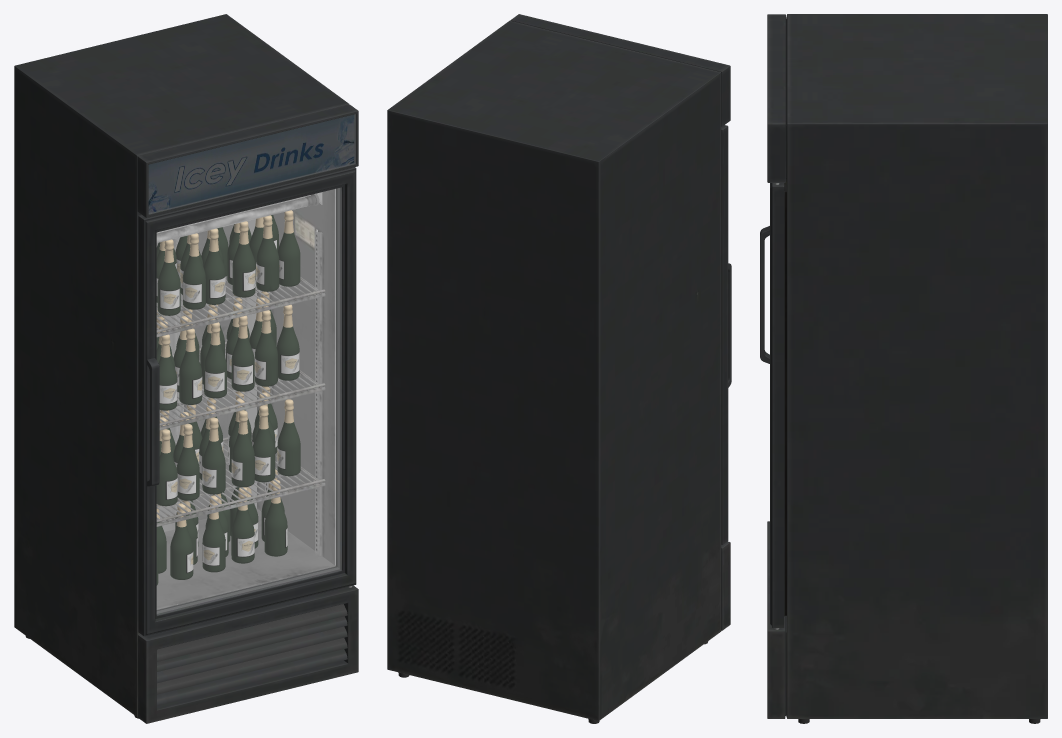
The model's file is CommercialRefrigerator.glb.
3 views of the same model, side by side, from view 1: azimuth 30°, elevation 25°; view 2: azimuth 150°, elevation 25°; view 3: azimuth 270°, elevation 25° (orthographic). The views are drawn at different scales.
Parts seen in each view (by area): view 1: FridgeCase, FridgeGlass, FridgeInterior, ChampagneBottles, FridgeDoor, FridgeDoorInner; view 2: FridgeCase, FridgeDoor; view 3: FridgeCase, FridgeDoor.
Part boxes in pixels (x1,y1,x2,y2): FridgeCase: (14,14,358,723); FridgeGlass: (157,188,339,613); FridgeInterior: (148,114,355,609); ChampagneBottles: (156,210,300,585); FridgeDoor: (138,167,356,636); FridgeDoorInner: (156,187,341,615); FridgeCase: (387,14,730,723); FridgeDoor: (721,125,731,544); FridgeCase: (767,14,1047,723); FridgeDoor: (760,179,786,628).
Bounding box in the file's own units: 0.8544 × 2.18 × 0.9441.
Materials: 6 (3 with a texture image).
